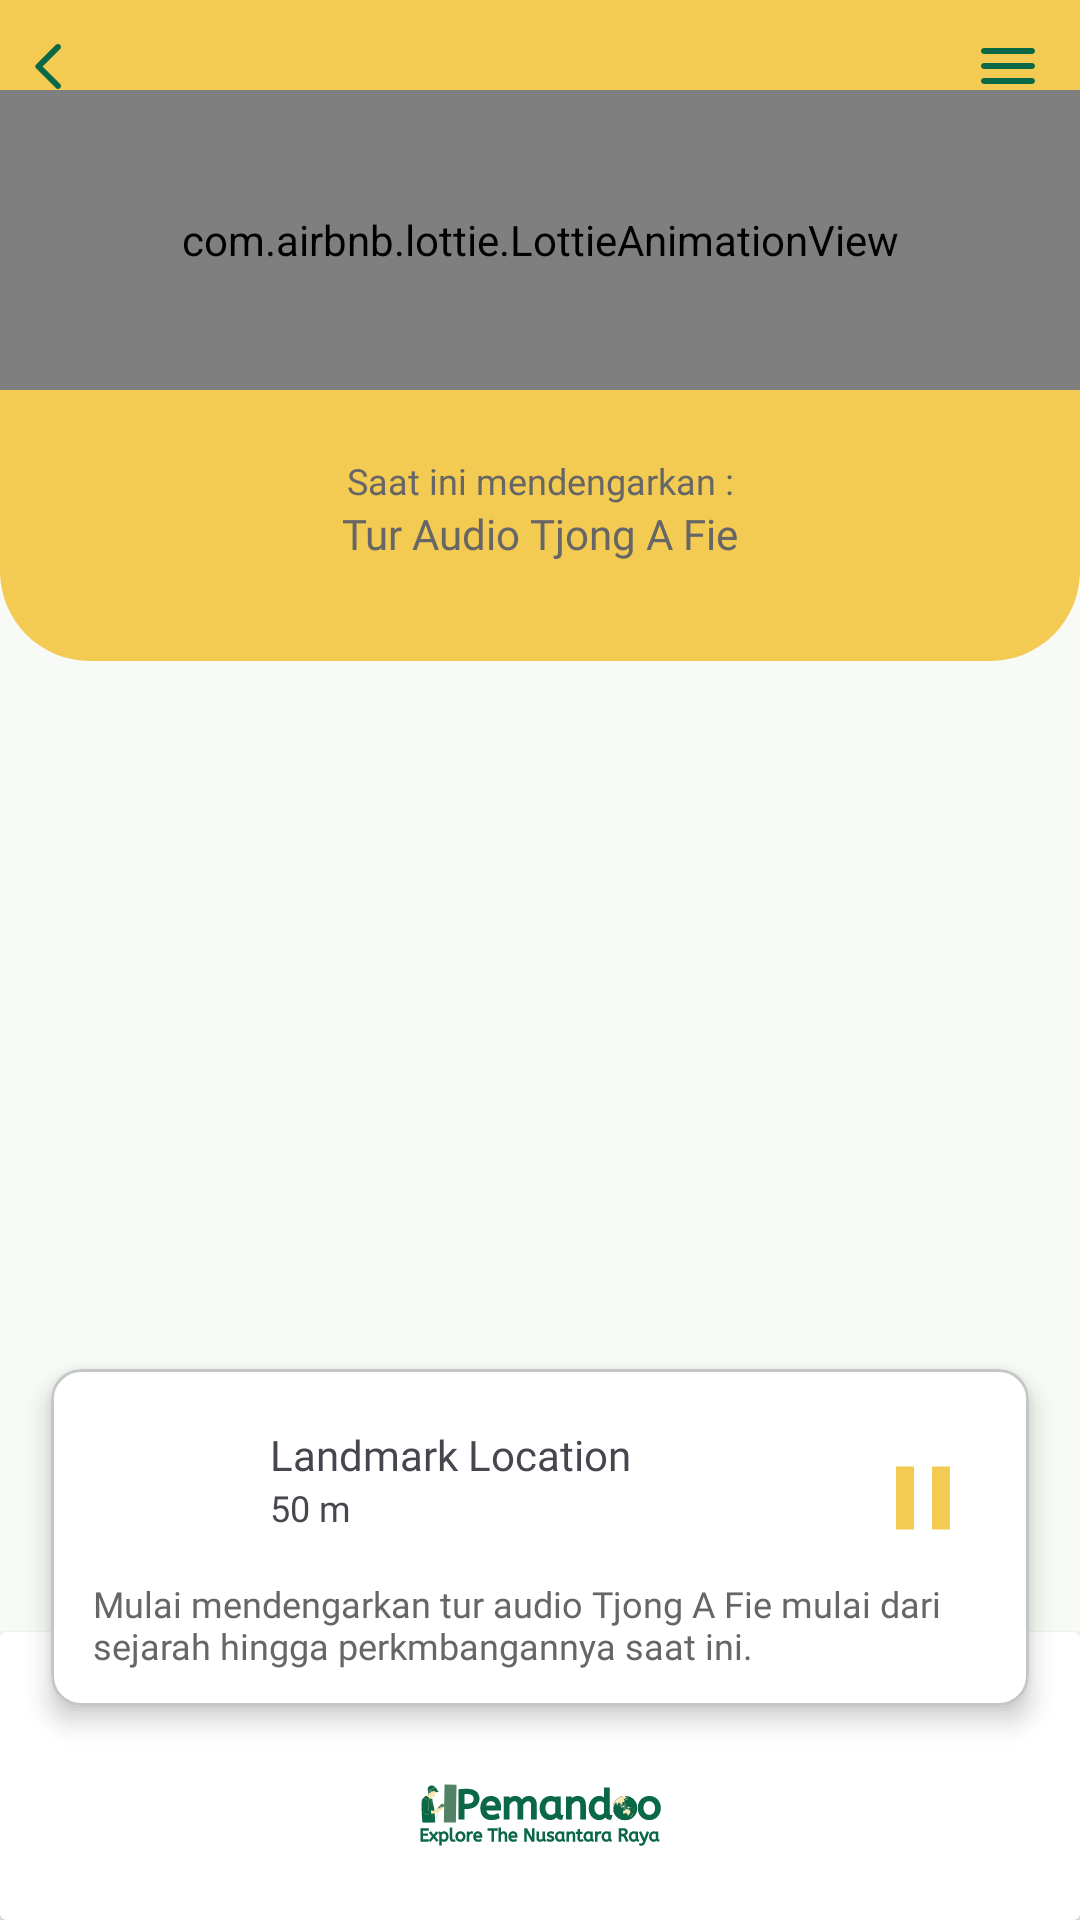

Where icons sit on this 1080x1920 app screen, as (x1, y1, x2, y2):
menu: (981, 48, 1035, 84)
